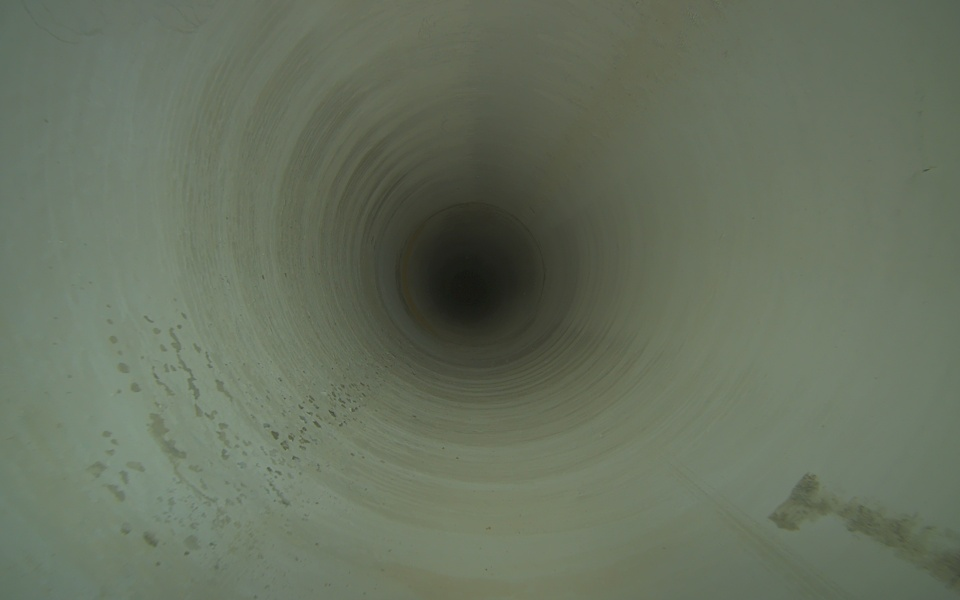circle1: (395, 200, 551, 354)
circle2: (452, 263, 488, 301)
